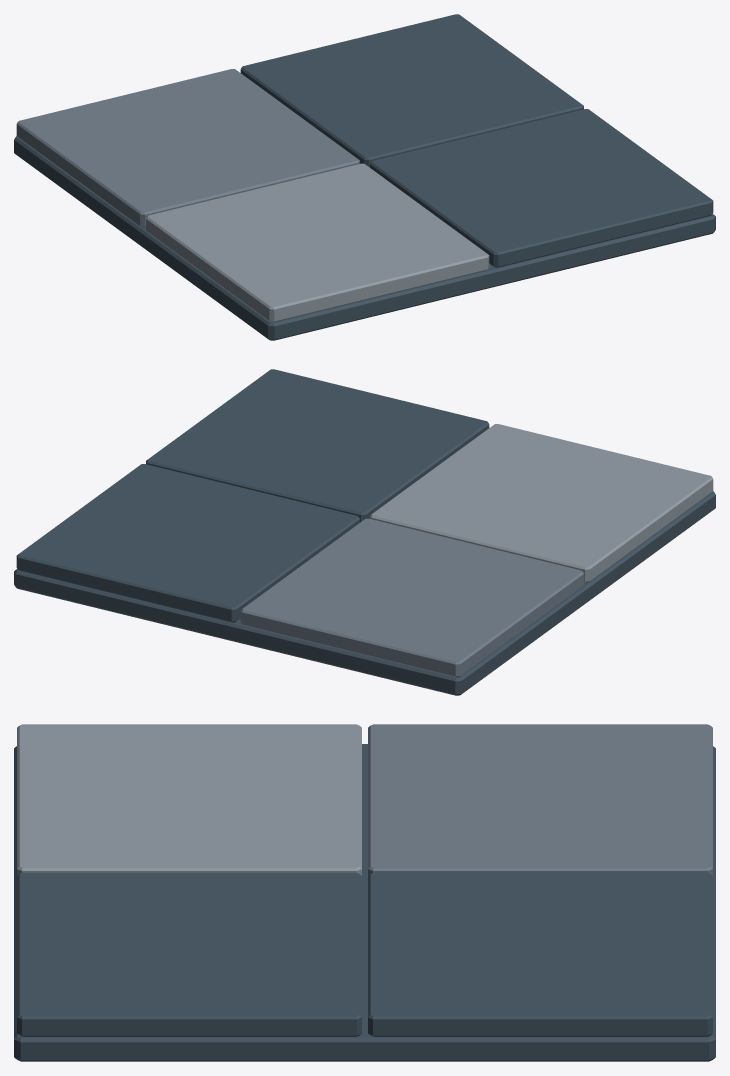
File: floor-transition.glb
The picture shows the model from 3 angles, top to bottom: view 1: azimuth 30°, elevation 25°; view 2: azimuth 150°, elevation 25°; view 3: azimuth 270°, elevation 25°; orthographic projection. The views are drawn at different scales.
Visible parts, largest first — view 1: floor-transition__body; view 2: floor-transition__body; view 3: floor-transition__body.
Boxes of the visible parts, <box> form: floor-transition__body: <box>14,14,715,340</box>; floor-transition__body: <box>14,369,715,695</box>; floor-transition__body: <box>14,724,715,1061</box>.
Bounding box in the file's own units: 2 × 0.14 × 2.
